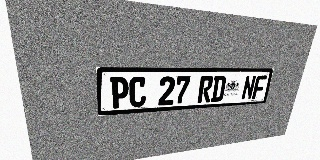2: (158, 76, 176, 106)
7: (174, 76, 191, 104)
C: (129, 77, 147, 107)
D: (210, 76, 227, 102)
F: (252, 75, 267, 99)
N: (241, 75, 257, 100)
P: (110, 77, 129, 109)
R: (197, 76, 214, 103)
